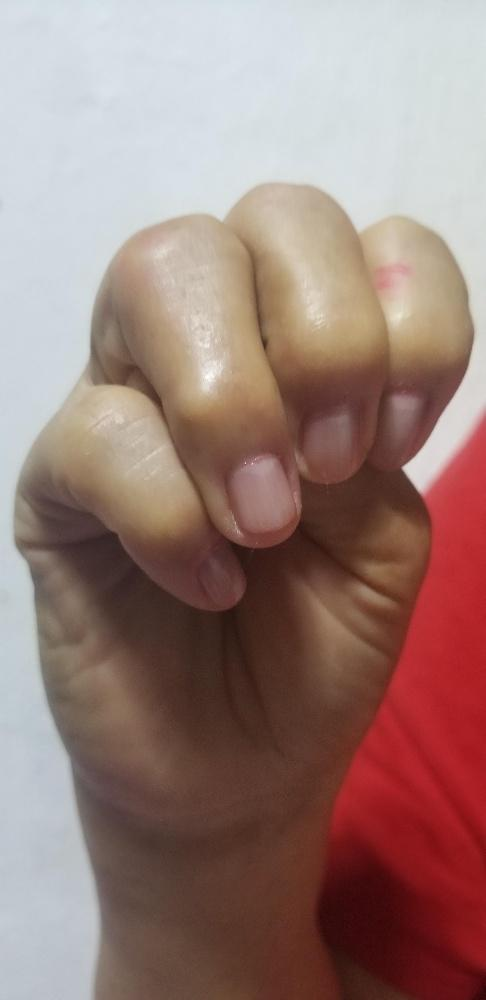m: (10, 177, 475, 804)
